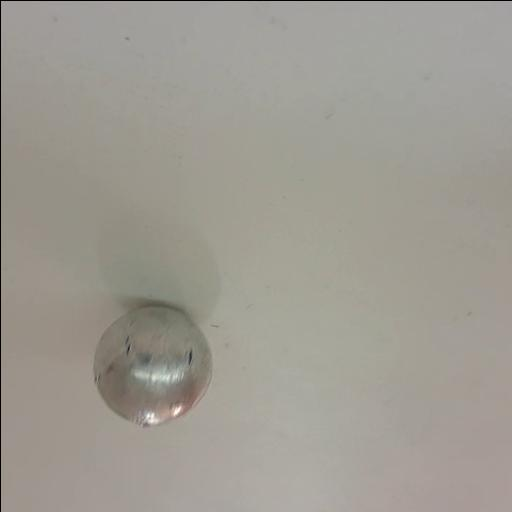alive: (90, 303, 216, 429)
